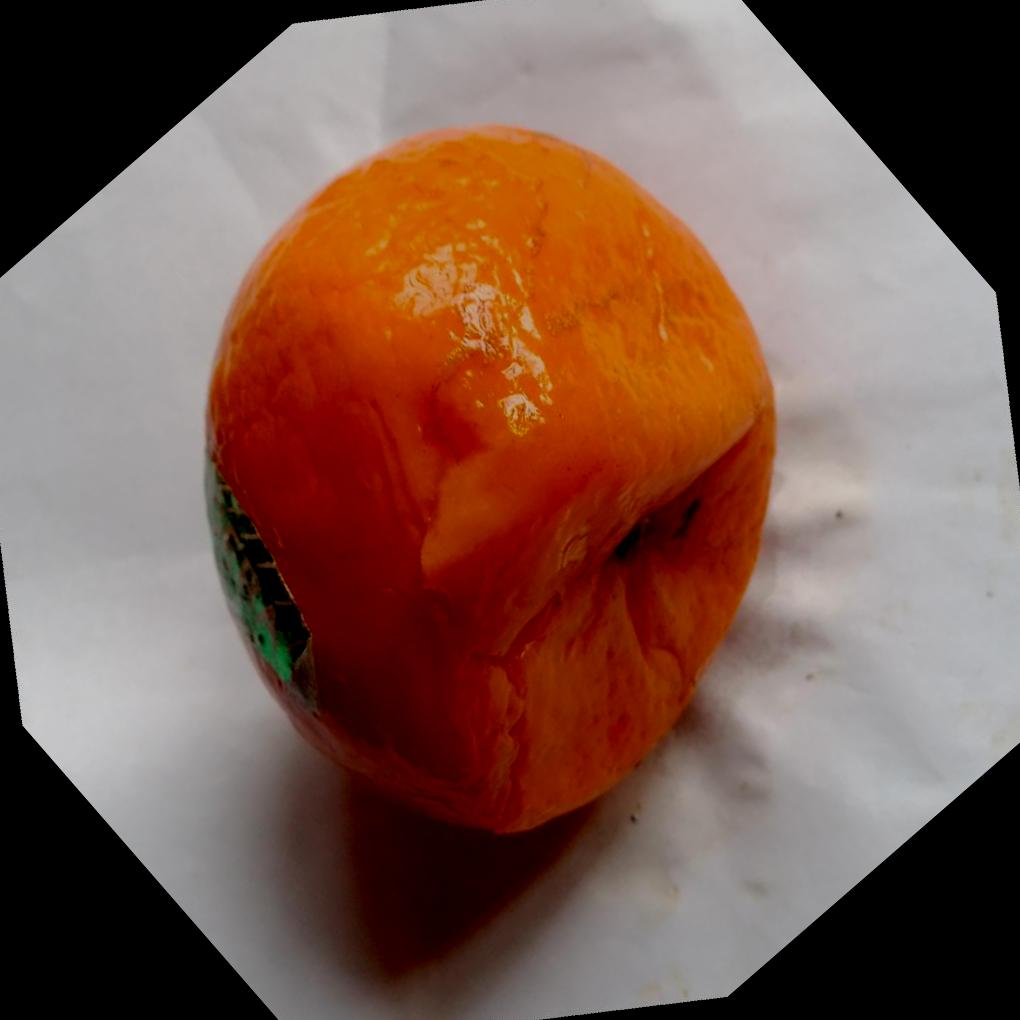FreshOrange: (200, 123, 777, 840)
